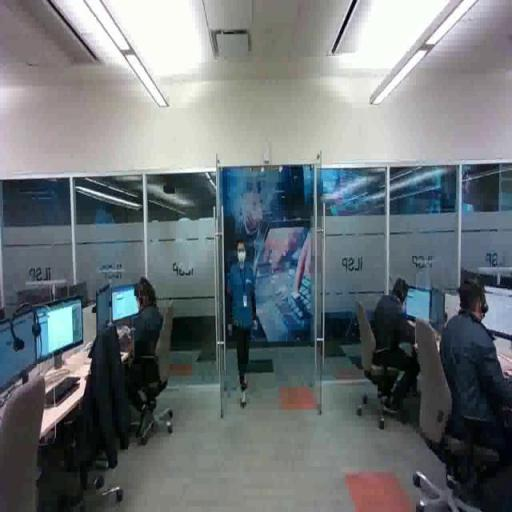person: (436, 278, 512, 481), (366, 277, 422, 415), (115, 275, 164, 399), (226, 239, 261, 410)
